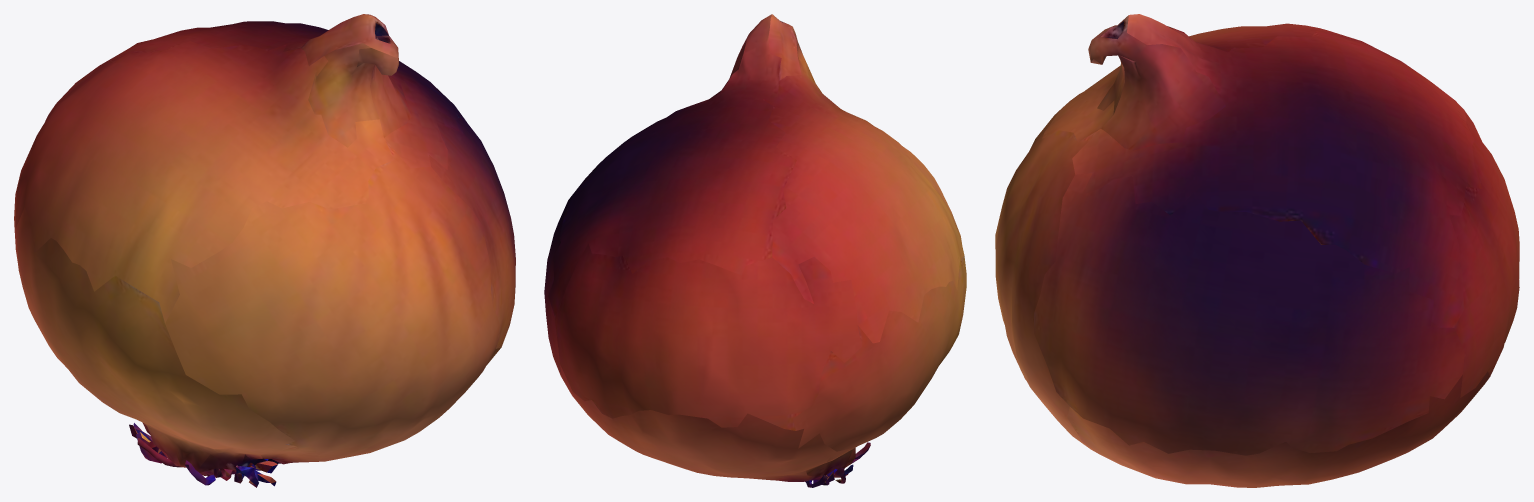
File: onion.glb
3 views of the same model, side by side, from view 1: azimuth 30°, elevation 25°; view 2: azimuth 150°, elevation 25°; view 3: azimuth 270°, elevation 25° (orthographic). The views are drawn at different scales.
Visible parts, largest first — view 1: onion; view 2: onion; view 3: onion.
Boxes of the visible parts, x1,y1,x2,y2 form: onion: [14, 14, 515, 487]; onion: [544, 14, 966, 487]; onion: [995, 14, 1519, 487].
Size of the model in its own units: 0.9335 by 1 by 0.9786.
Materials: 1 (1 with a texture image).
